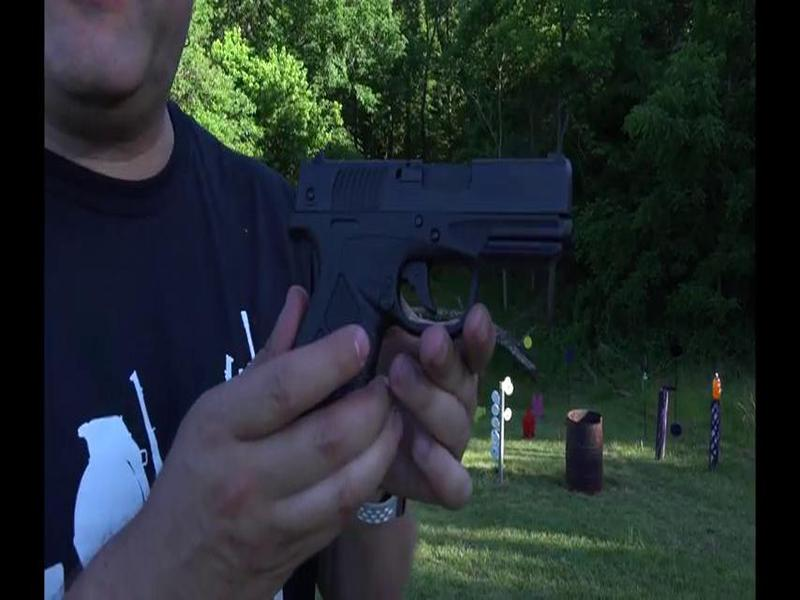Pistola: (275, 144, 600, 413)
